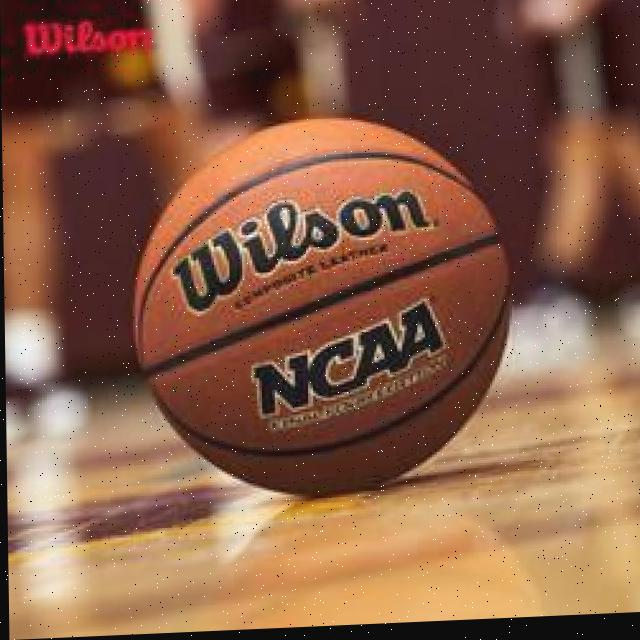Basketball: (126, 111, 510, 503)
